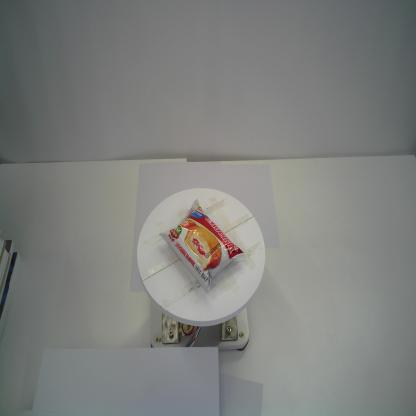Dessert: (158, 198, 244, 292)
